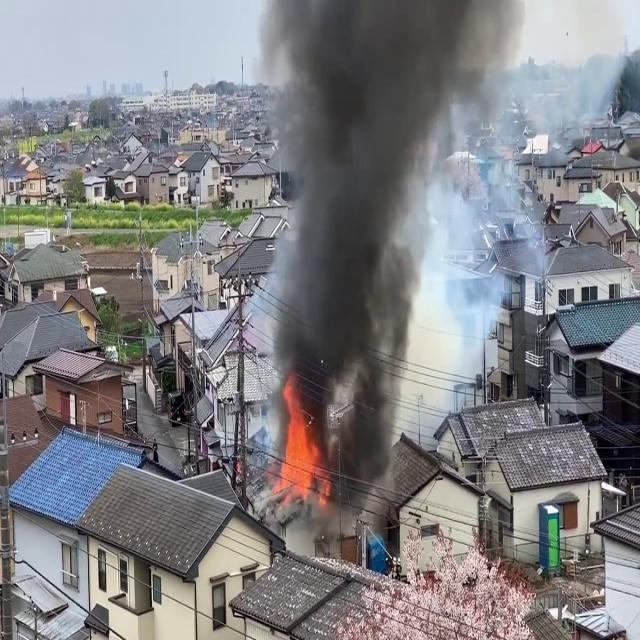Fire: (272, 382, 330, 507)
Smoke: (253, 0, 562, 466)
